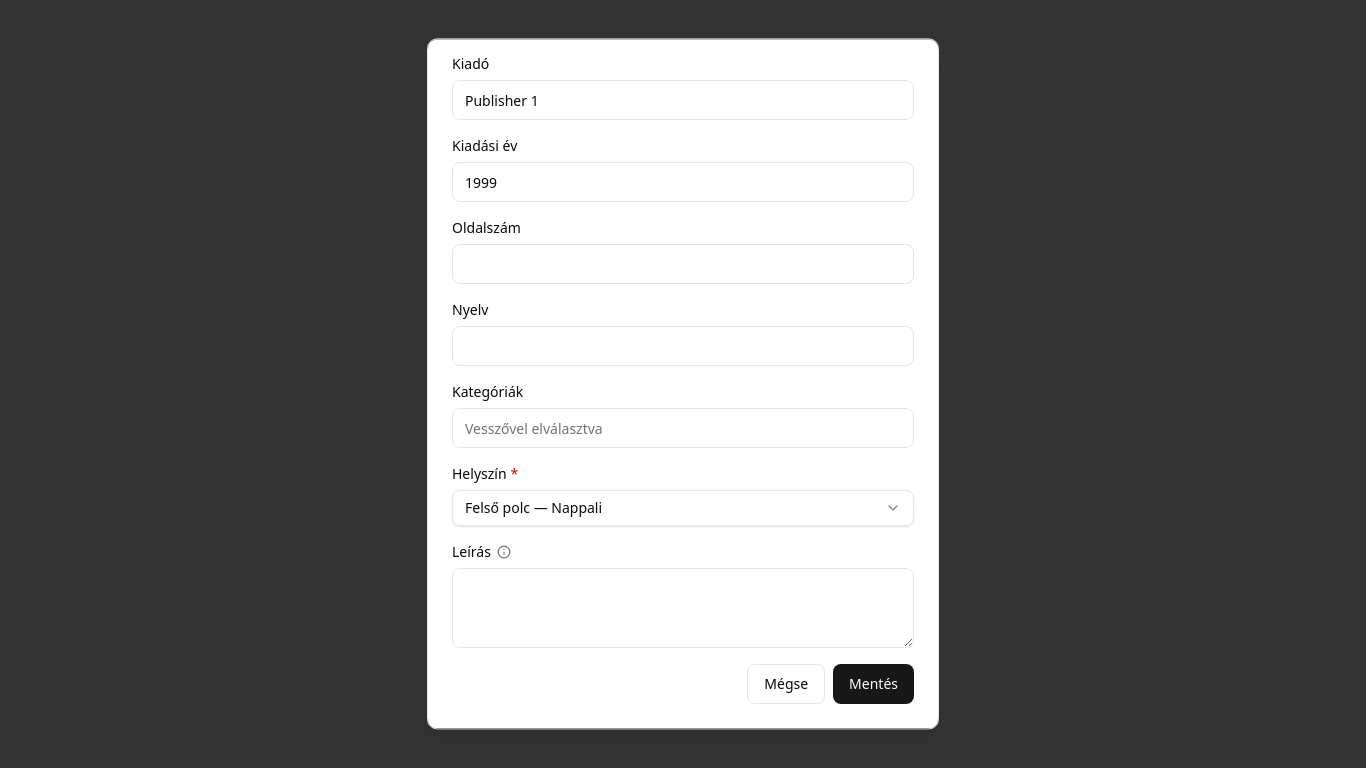
Scenario: BookFormModal — edit mode › shows conflict error message on 409 response
The width and height of the screenshot is (1366, 768).
(page scrolled)
Click the button "Mentés". click: {"x": 874, "y": 684}
box: [833, 664, 914, 704]
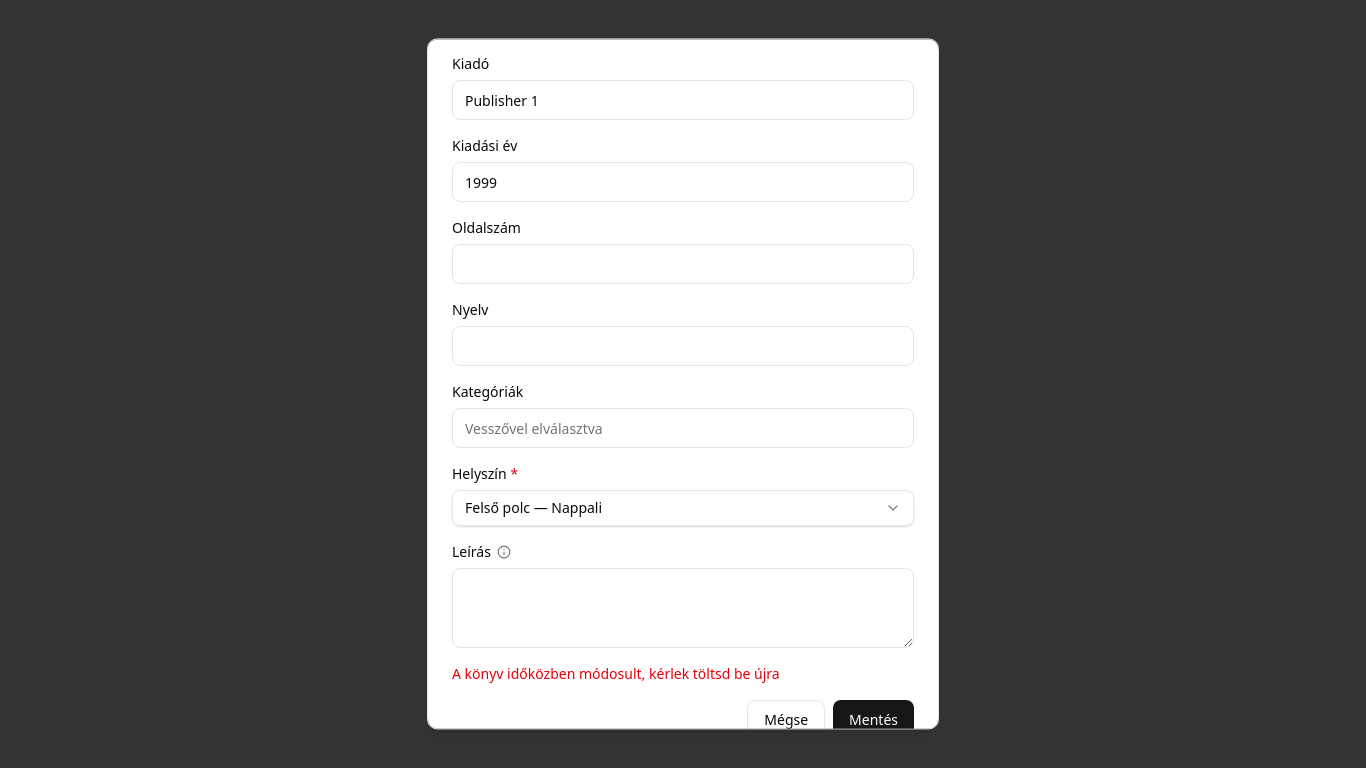
Check: the text "A könyv időközben módosult, kérlek töltsd be újra" is shown, box [452, 664, 780, 683]
